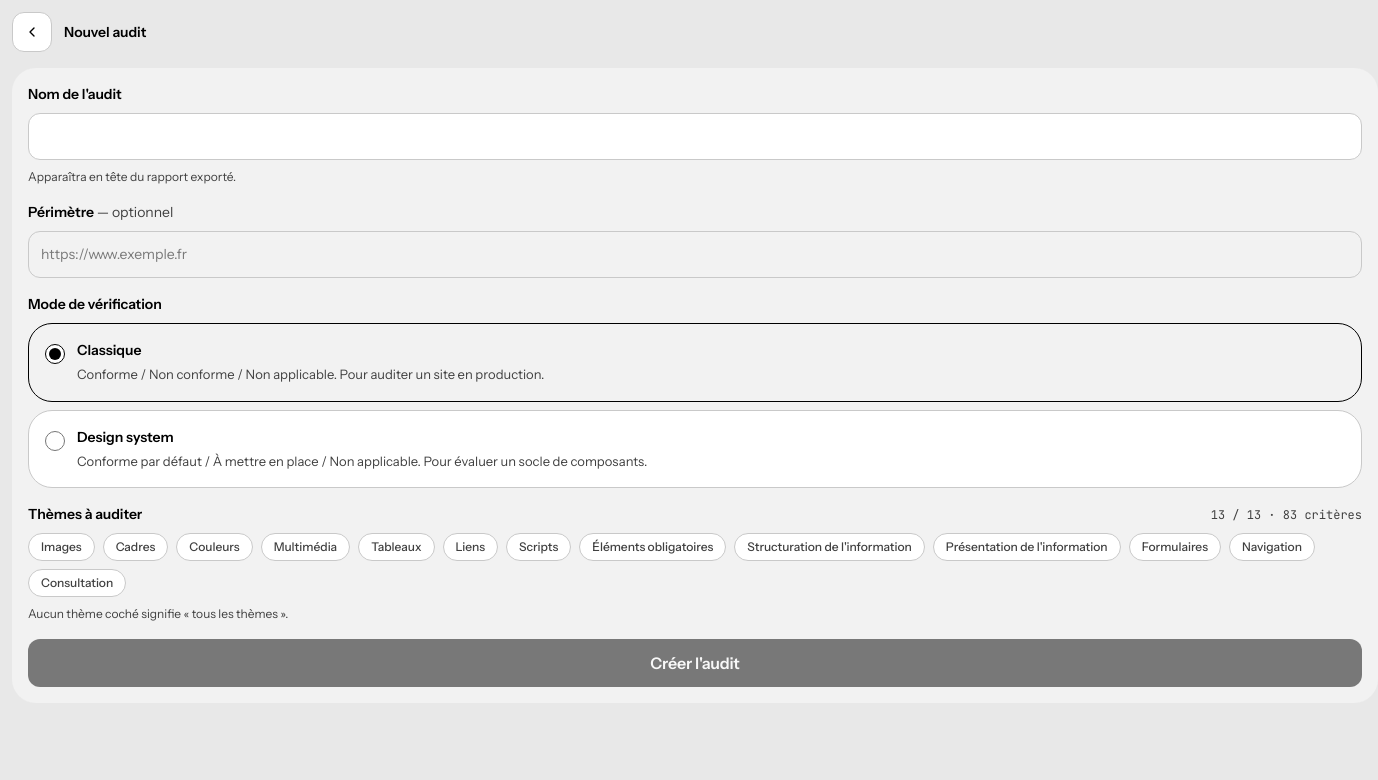
Test: NewAuditForm › affiche une coche visuelle quand un thème est sélectionné
This screenshot has width=1378, height=780.
Step 1. Click the checkbox labelled "Images" → (61, 547), box [28,533,95,561]
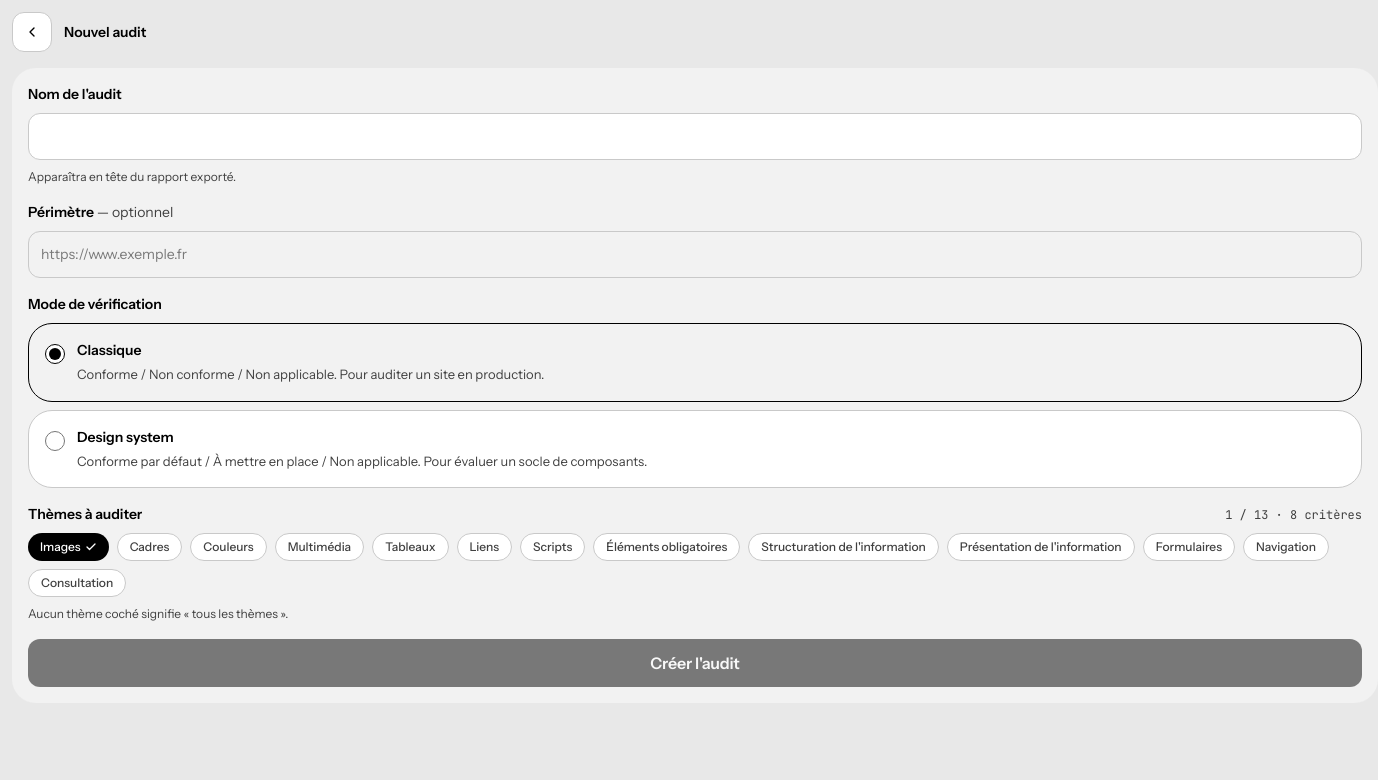
Check: the icon next to "Images" is shown, box [85,541,97,553]
